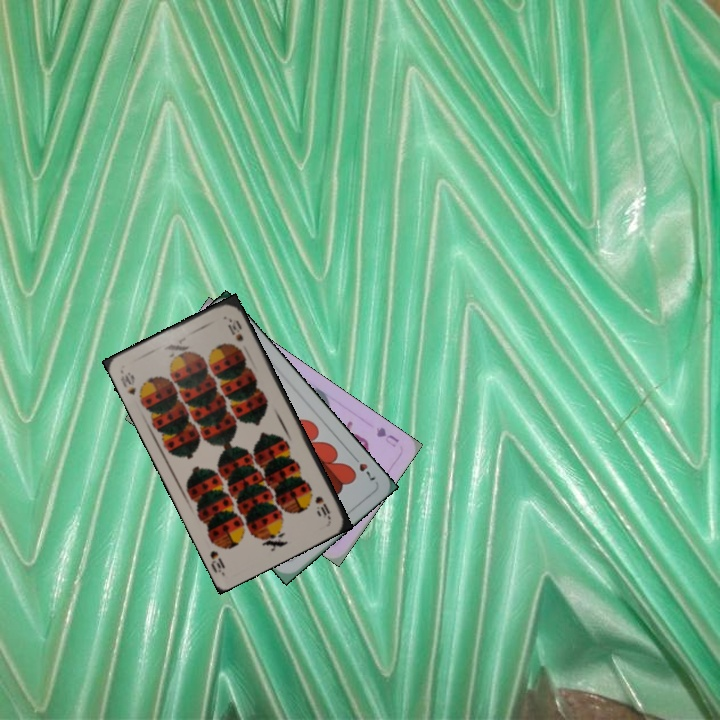GU: (372, 423, 402, 450)
H7: (348, 451, 379, 483)
S10: (116, 368, 139, 398), (311, 492, 333, 521)
